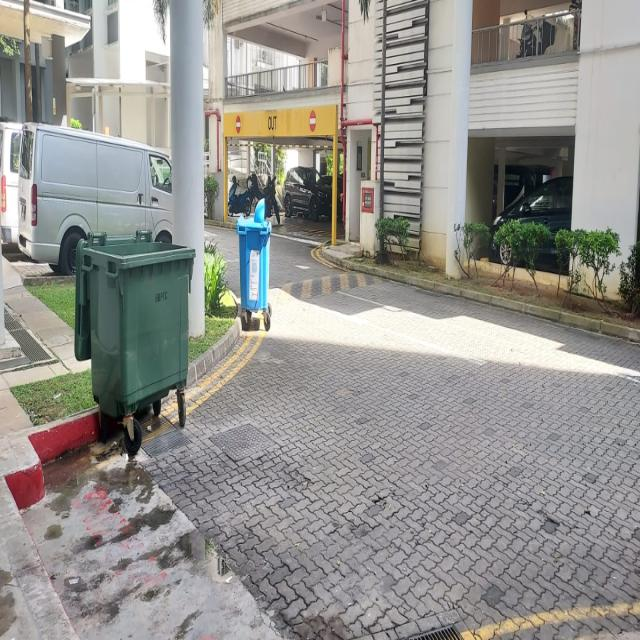bin_empty: (74, 220, 198, 452), (234, 198, 274, 334)
vehicle: (17, 123, 172, 274)
